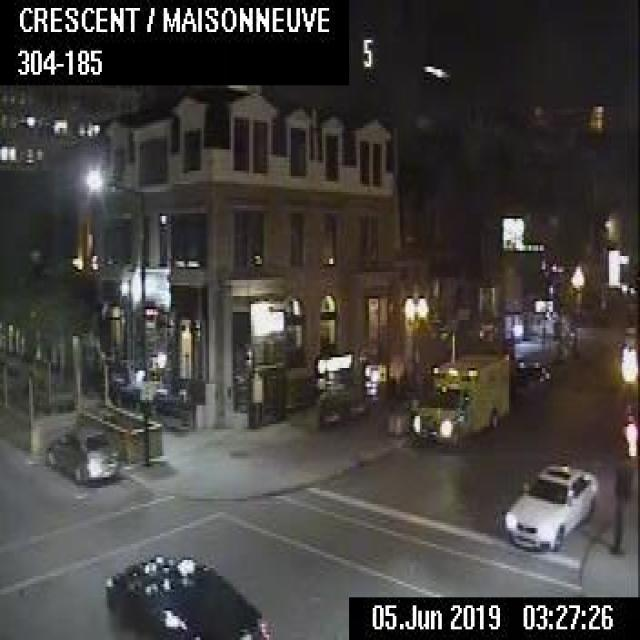vehicle: (104, 550, 269, 638), (411, 350, 508, 445), (502, 460, 598, 550), (44, 422, 116, 483), (510, 358, 550, 397)
